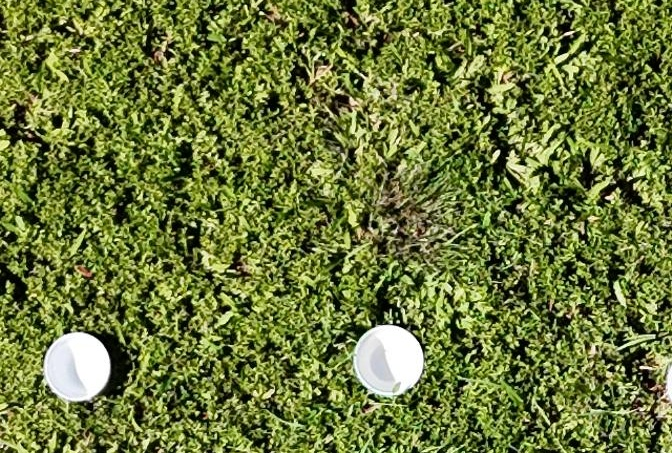bowl: (351, 324, 425, 399), (42, 330, 112, 404)
